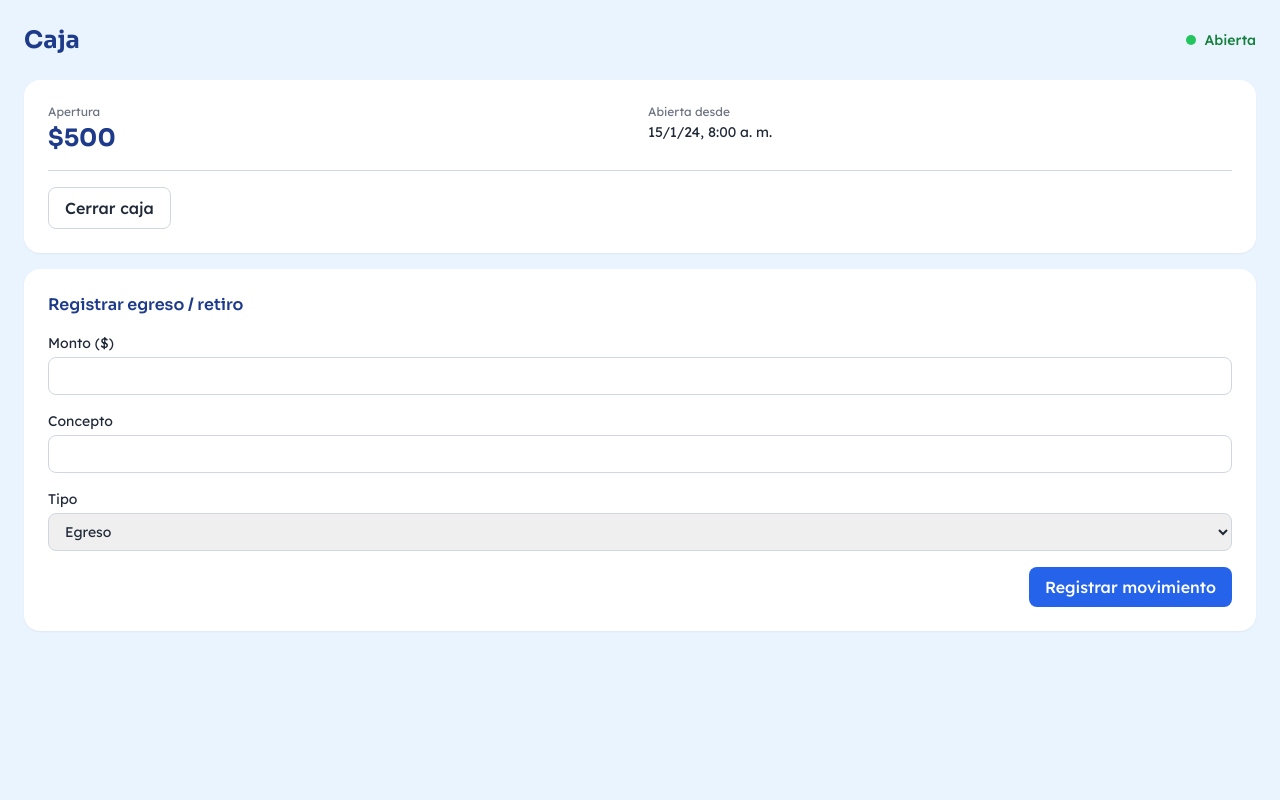
Test: CajaView — resumen de cierre por medio de pago › muestra el desglose por medio de pago en el modal de cierre después de cerrar
This screenshot has width=1280, height=800.
// Abrir el modal de cierre (botón en la tarjeta de caja abierta)
Click the button "Cerrar caja" at (109, 208), box top-left (48, 187), bottom-right (171, 229)
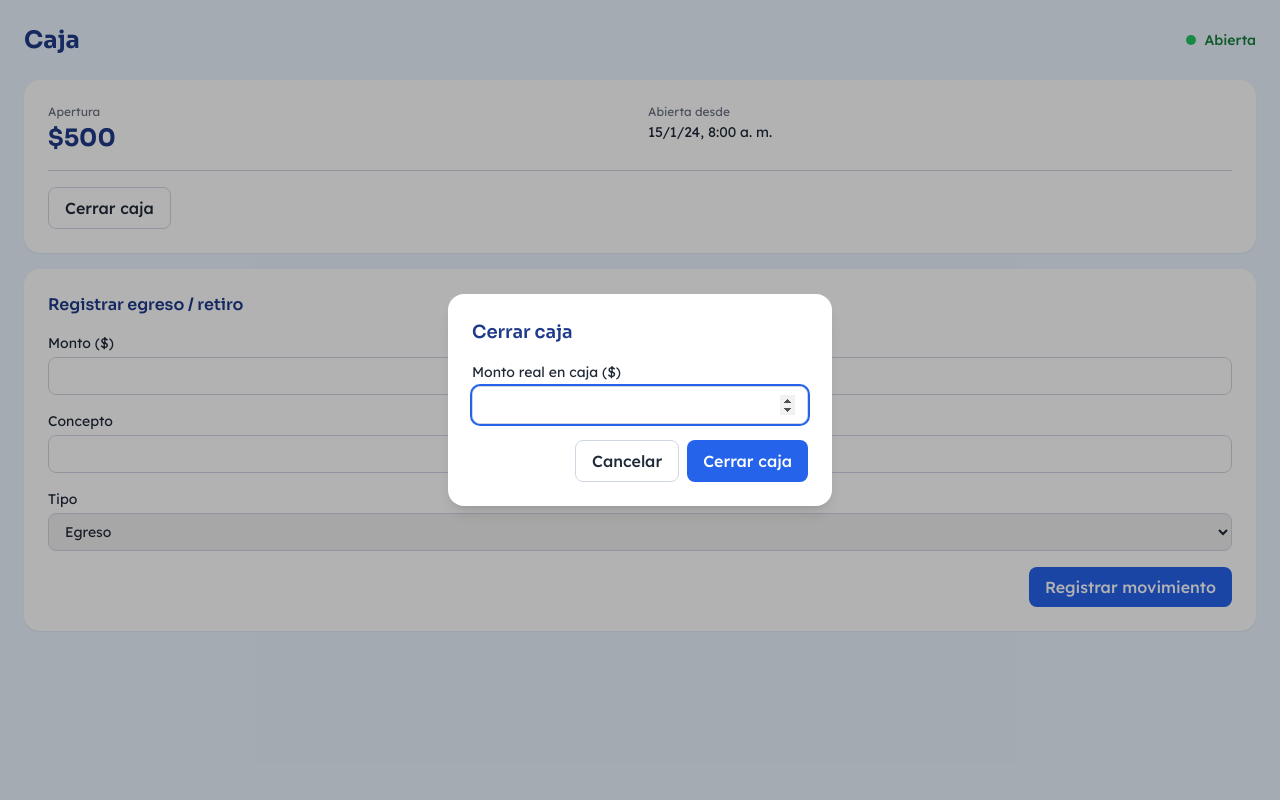
// Ingresar monto real (ahora el modal está visible)
Type "1400" into the number field labelled "Monto real en caja ($)" at (640, 405), box top-left (472, 386), bottom-right (808, 424)
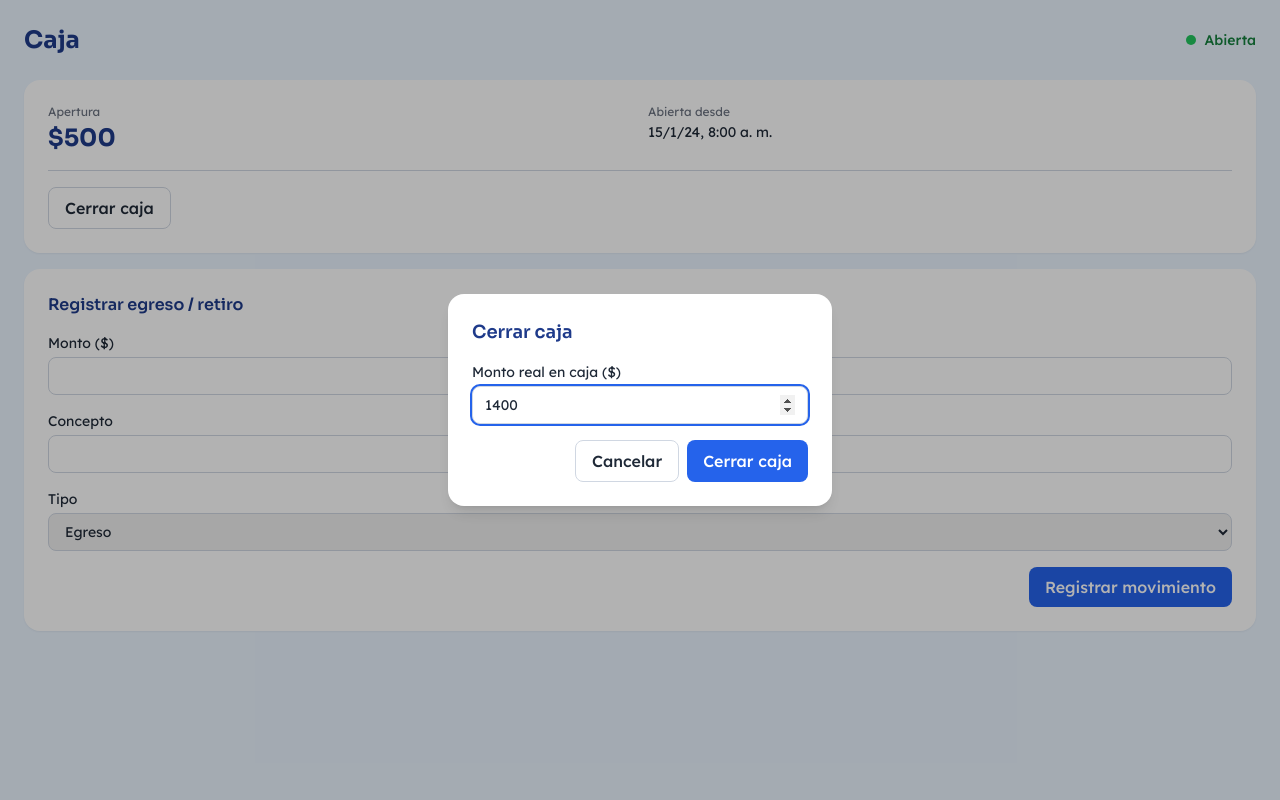
Click the button "Cerrar caja" at (748, 461), box top-left (687, 440), bottom-right (808, 482)
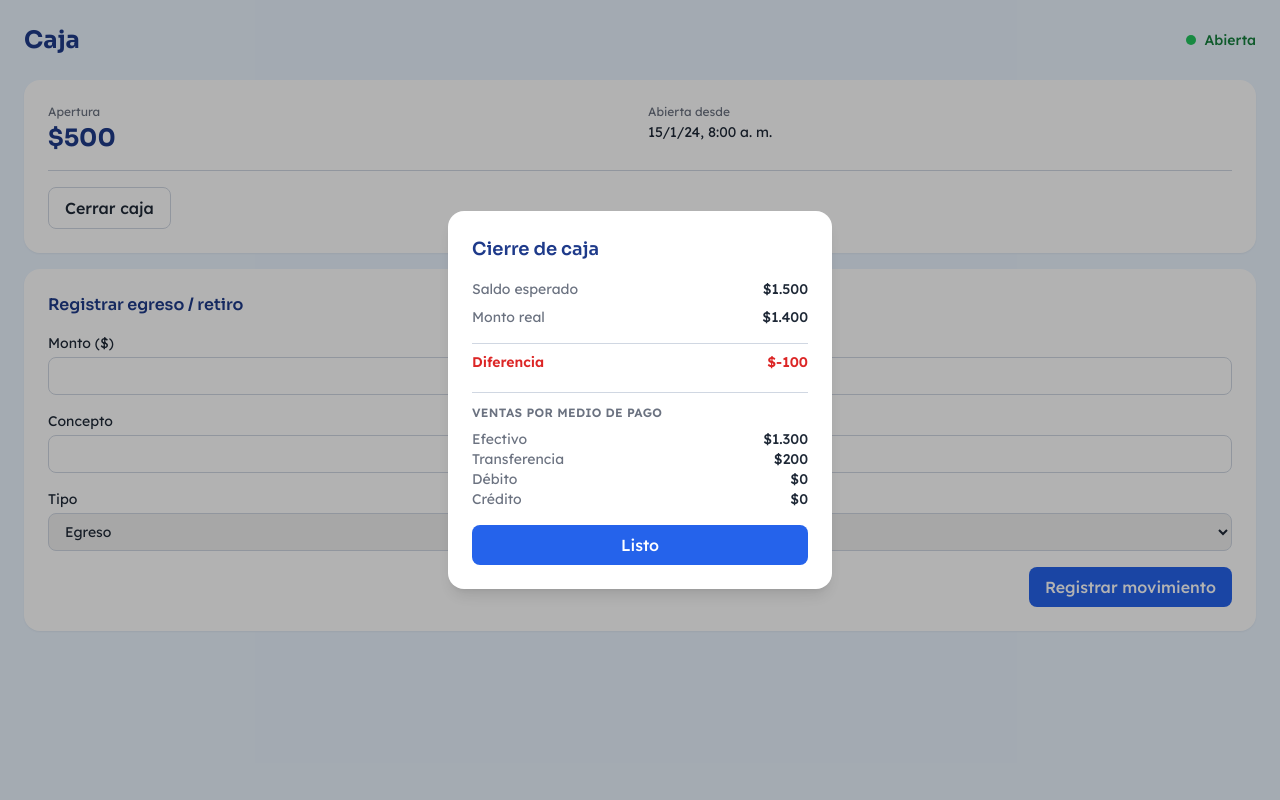
Expected: the text "Efectivo" is shown, top-left (472, 429), bottom-right (527, 449)
Expected: the text "Transferencia" is shown, top-left (472, 449), bottom-right (564, 469)
